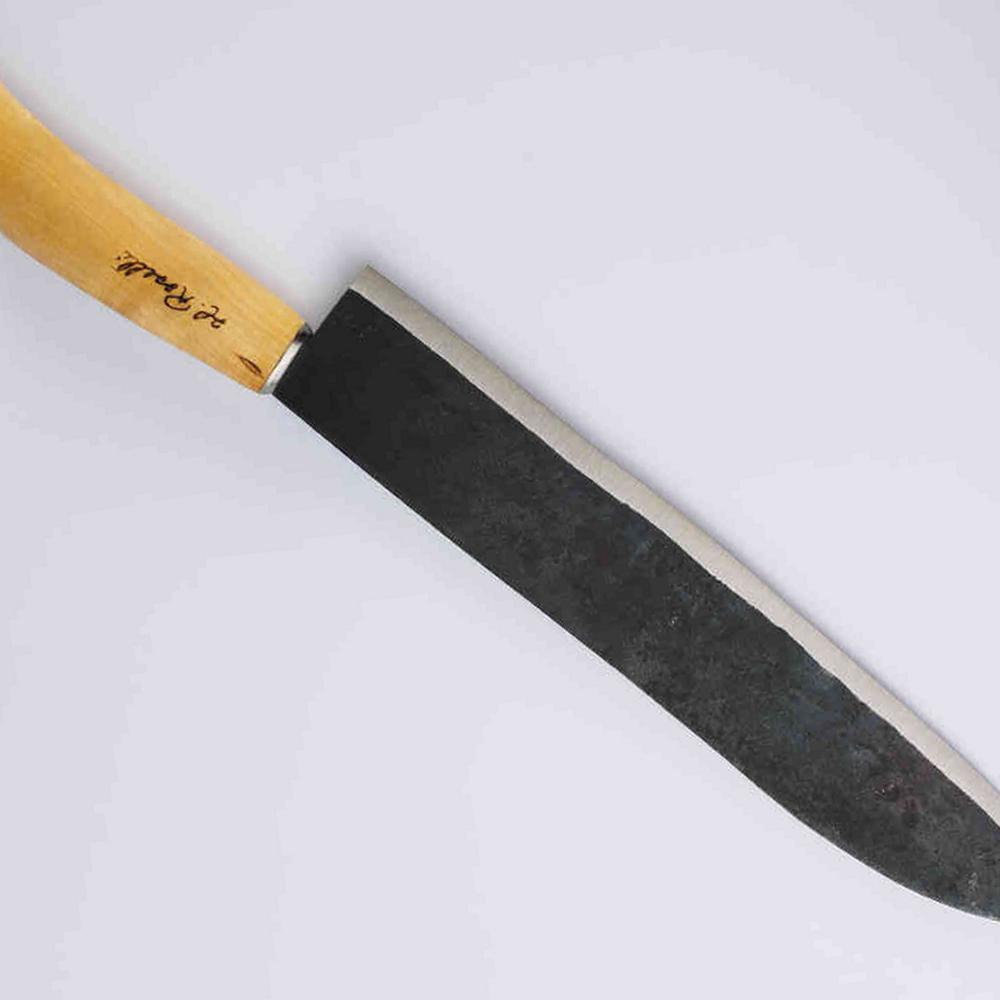knife: (2, 69, 1000, 921)
